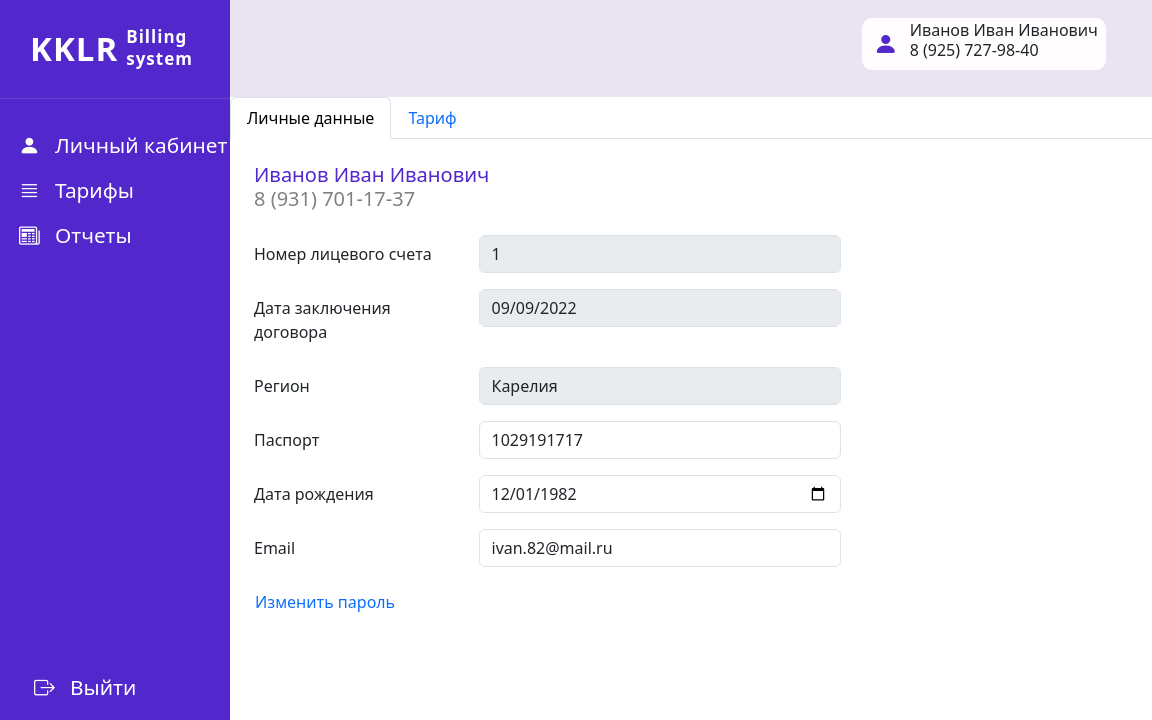
Scenario: routes › check redirect from PersonalData to Login
The image size is (1152, 720).
Click the button with test id "logout" at coordinates (83, 688), box left=30, top=672, right=136, bottom=703
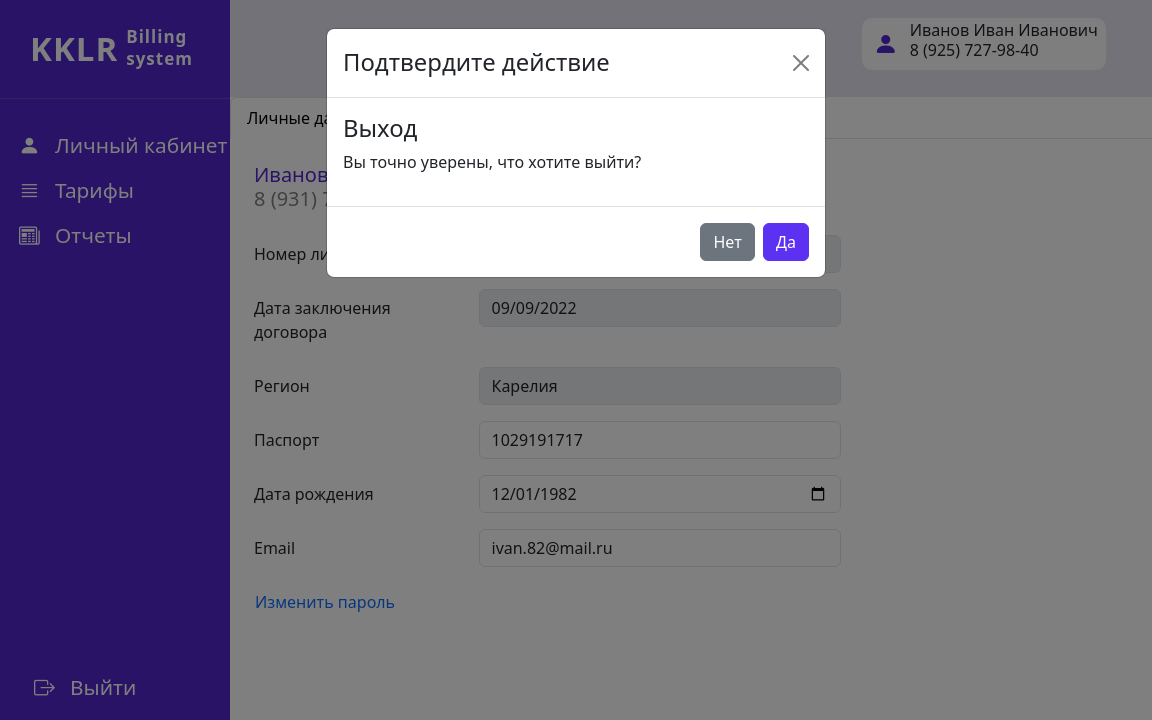
Click the button with test id "submit_logout" at coordinates (786, 242), box left=763, top=223, right=809, bottom=261
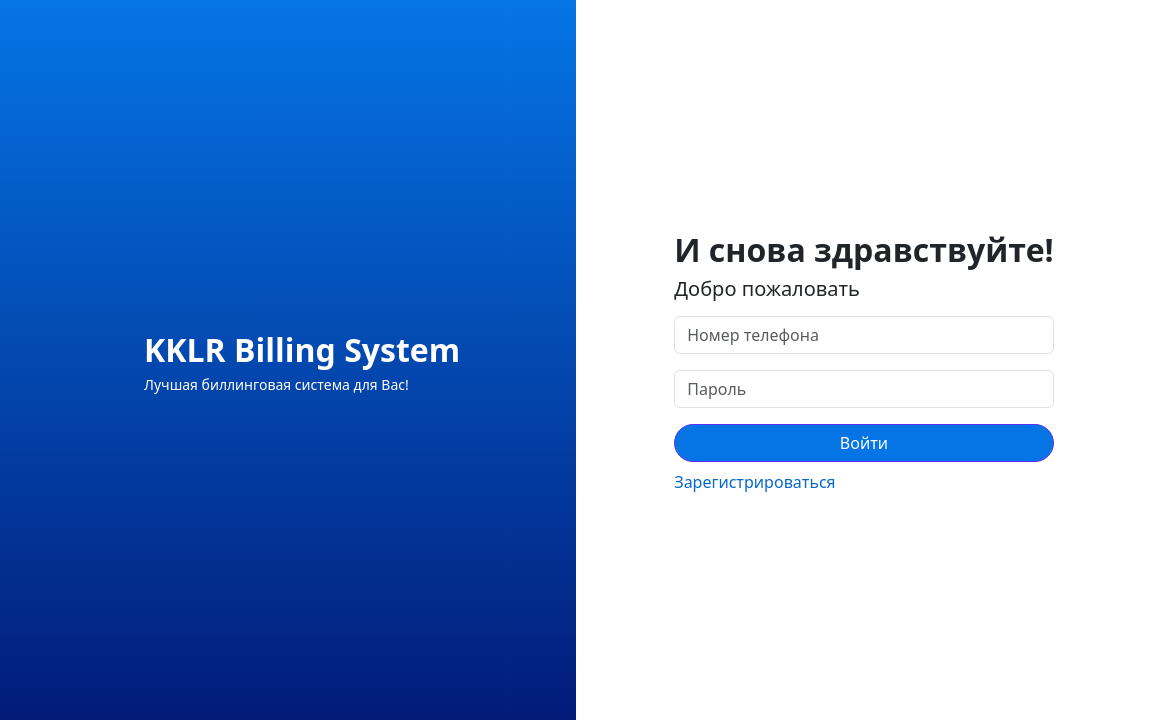
Expected: the text "Добро пожаловать" is shown, left=674, top=275, right=860, bottom=302
